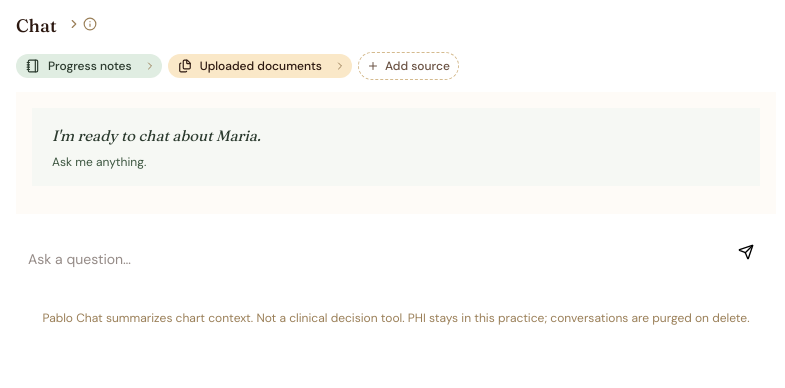
ChatPanel — chip rail › toggling a chip removes the key from the next send's selection
Click the button "Uploaded documents": (248, 66) [168,54,328,78]
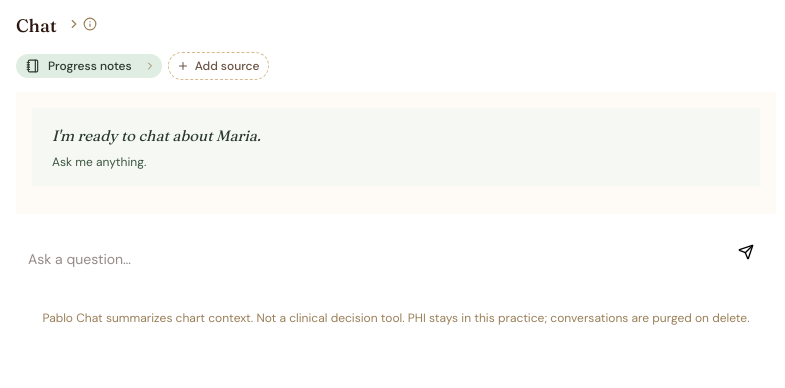
Send a message.
In the text box named "Message": (374, 260) [28,248,720,272], type "Hello there"
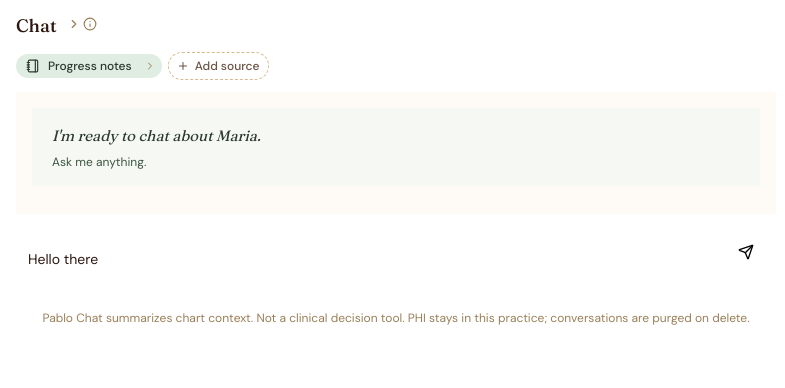
Click the button named "Send": (746, 252) [728,234,764,270]
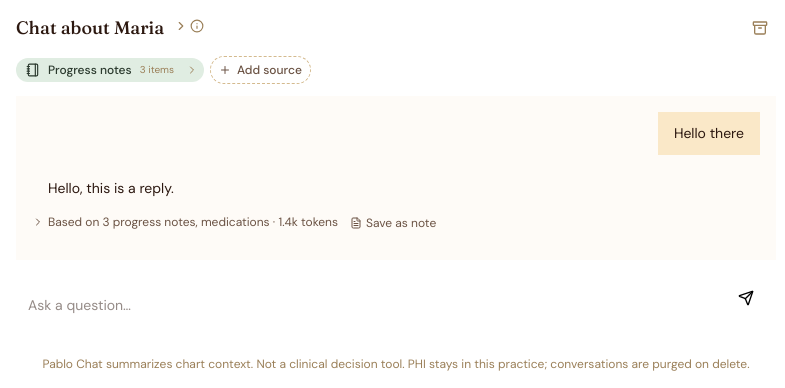
Now the text "Hello there" is shown, box [658,112,760,155]
